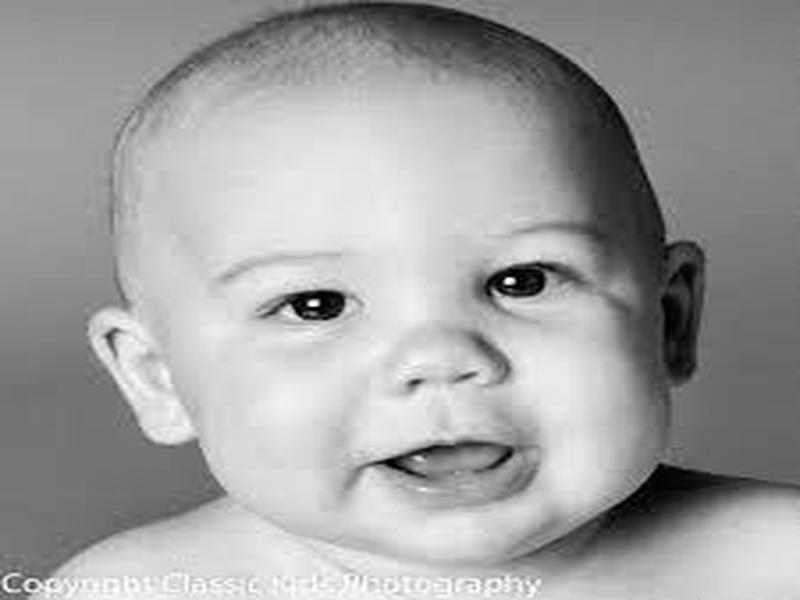without_mask: (123, 123, 665, 559)
